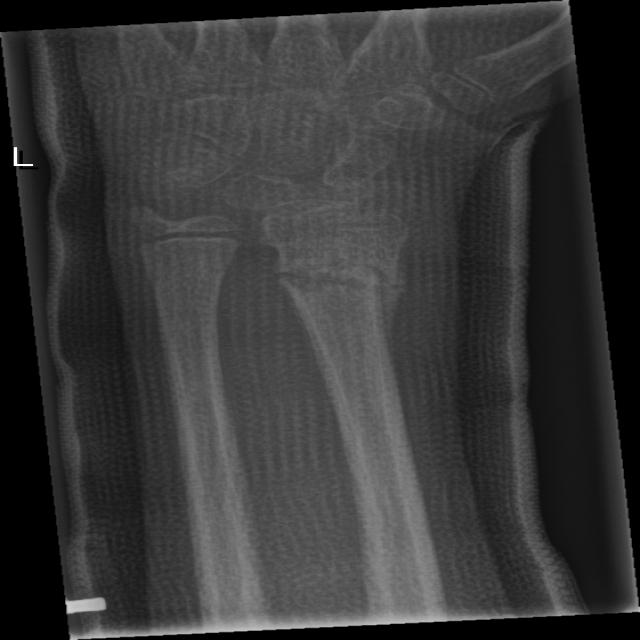radius fracture: (243, 249, 430, 395)
